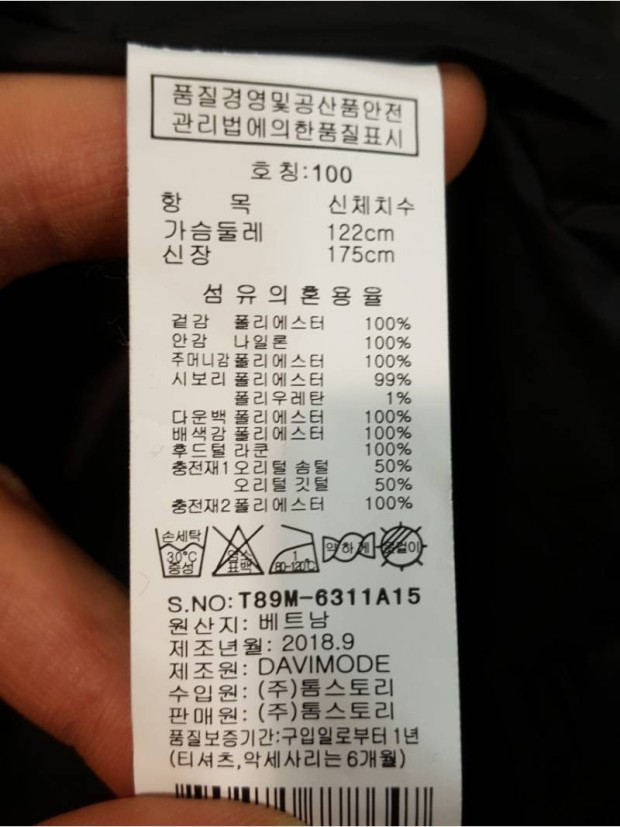KR_flat_dry_in_shade: (378, 522, 423, 570)
KR_gentle_wring: (320, 528, 375, 565)
KR_hand_wash_30_neutral: (153, 525, 210, 581)
KR_iron_low_temp: (267, 522, 320, 578)
KR_no_chlorine_bleach: (212, 525, 267, 578)
